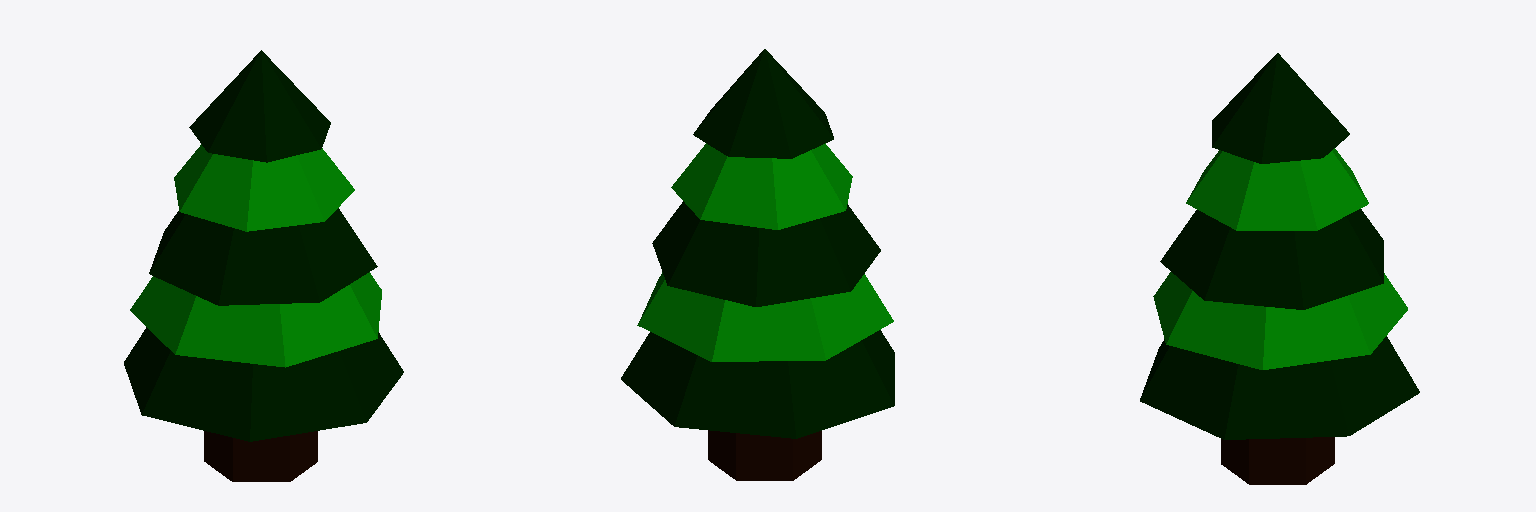
The model's file is tree.obj.
3 renders of one model, left to right at view 1: azimuth 30°, elevation 25°; view 2: azimuth 150°, elevation 25°; view 3: azimuth 270°, elevation 25°, orthographic.
Parts seen in each view (by area): view 1: Cone.004; view 2: Cone.004; view 3: Cone.004.
Boxes of the visible parts, box(x1,y1,x2,y2) form: Cone.004: box(124, 50, 403, 481); Cone.004: box(621, 49, 894, 480); Cone.004: box(1140, 53, 1419, 484).
Bounding box in the file's own units: 6.61 × 10.78 × 6.67.